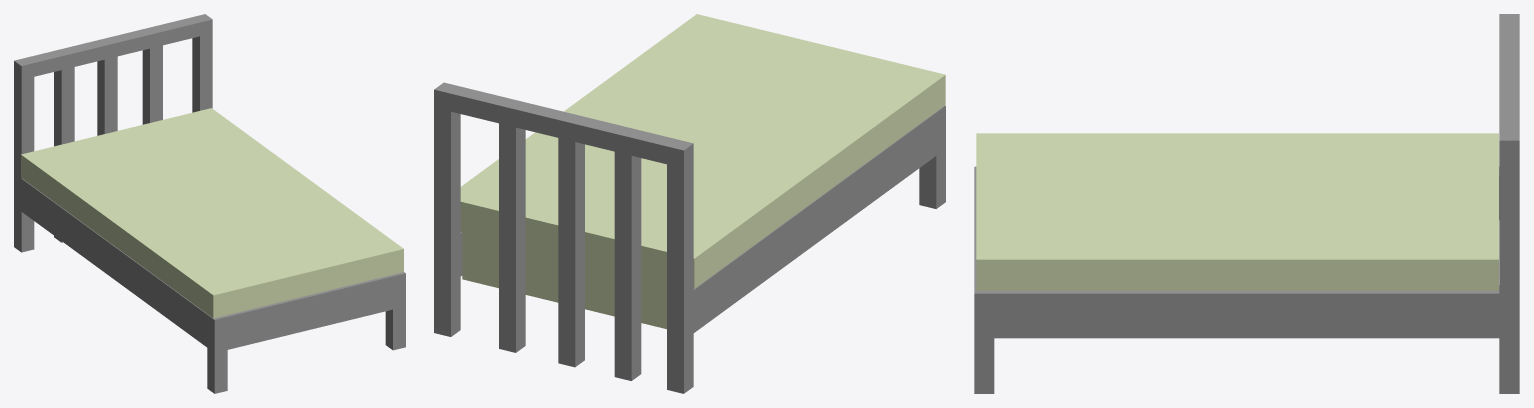
File: bed.fbx
3 renders of one model, left to right at view 1: azimuth 30°, elevation 25°; view 2: azimuth 150°, elevation 25°; view 3: azimuth 270°, elevation 25°, orthographic. The views are drawn at different scales.
Visible parts, largest first — view 1: Cube.006; view 2: Cube.006; view 3: Cube.006.
Boxes of the visible parts, x1=… form: Cube.006: x1=14, y1=14, x2=405, y2=393; Cube.006: x1=434, y1=14, x2=945, y2=393; Cube.006: x1=974, y1=14, x2=1519, y2=393.
Size of the model in its own units: 233 by 216 by 421.
